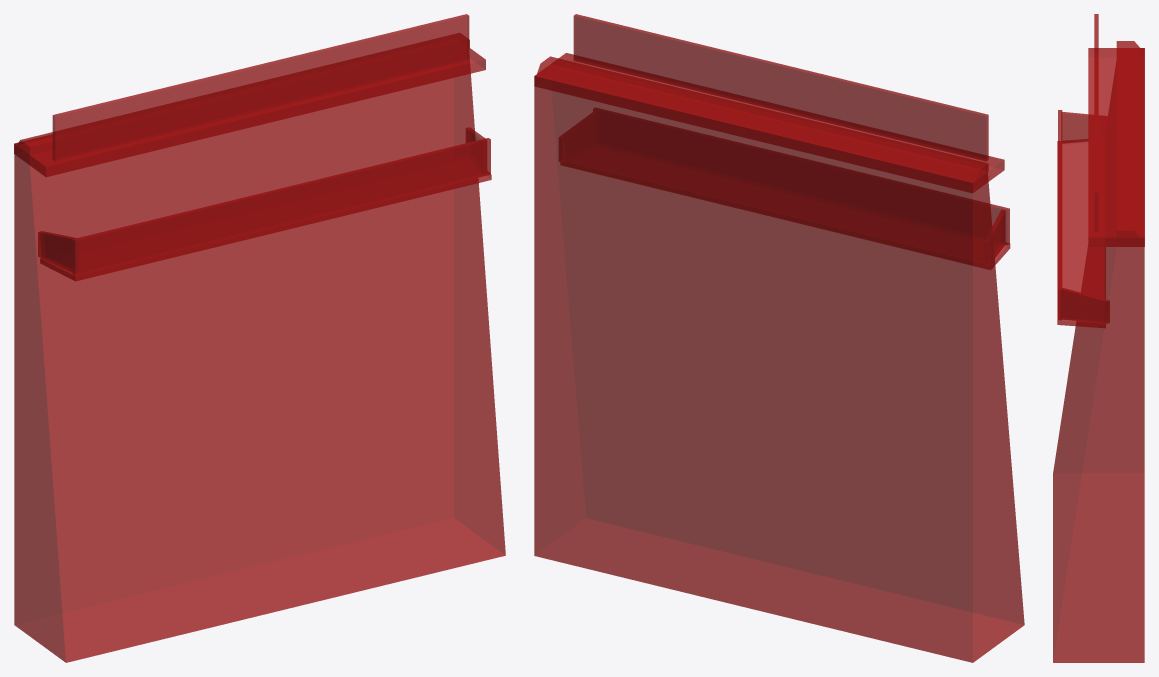
The model's file is SM_Env_Port_Drydock_Large_01_Collision.fbx.
The picture shows the model from 3 angles, left to right: view 1: azimuth 30°, elevation 25°; view 2: azimuth 150°, elevation 25°; view 3: azimuth 270°, elevation 25°; orthographic projection. The views are drawn at different scales.
Parts seen in each view (by area): view 1: SM_Env_Port_Drydock_Large_01_Collision; view 2: SM_Env_Port_Drydock_Large_01_Collision; view 3: SM_Env_Port_Drydock_Large_01_Collision.
Boxes of the visible parts, x1,y1,x2,y2 form: SM_Env_Port_Drydock_Large_01_Collision: [14, 14, 505, 662]; SM_Env_Port_Drydock_Large_01_Collision: [534, 14, 1024, 662]; SM_Env_Port_Drydock_Large_01_Collision: [1053, 14, 1144, 662].
Size of the model in its own units: 1000 by 1143 by 205.
